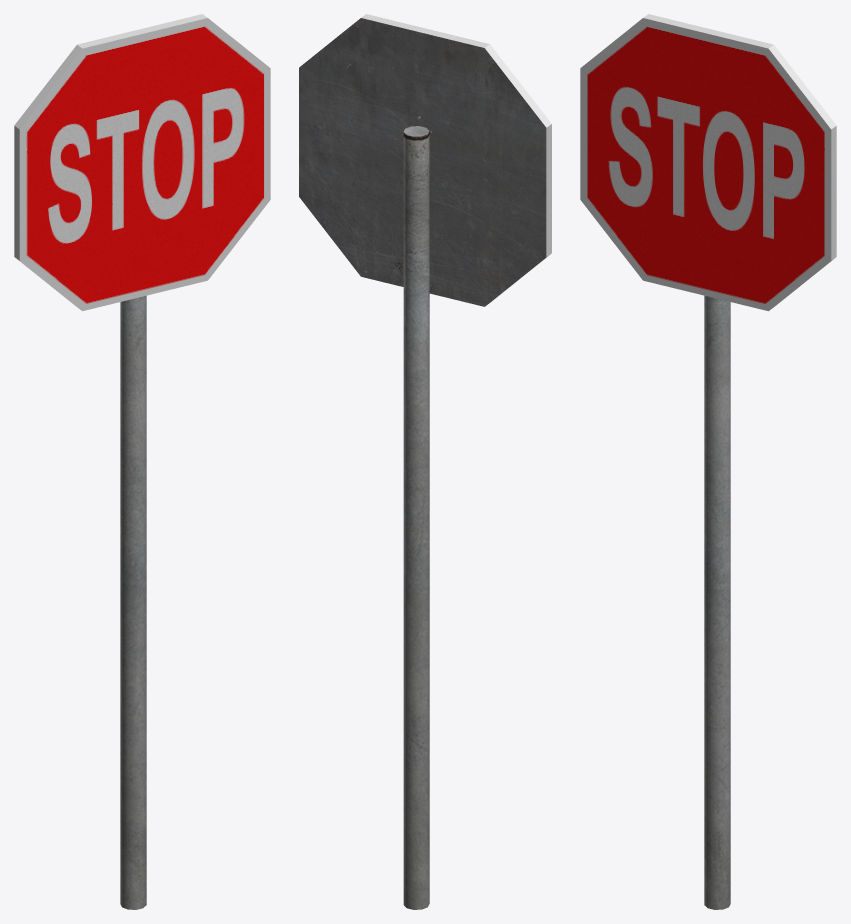
File: StopSign2.FBX
3 views of the same model, side by side, from view 1: azimuth 30°, elevation 25°; view 2: azimuth 150°, elevation 25°; view 3: azimuth 330°, elevation 25° (orthographic).
Visible parts, largest first — view 1: Line01; view 2: Line01; view 3: Line01.
Part boxes in pixels (bbox=[...]): Line01: bbox=[14, 14, 270, 909]; Line01: bbox=[299, 14, 551, 909]; Line01: bbox=[580, 14, 836, 909].
Size of the model in its own units: 0.8525 by 2.86 by 0.1065.
Materials: 1 (1 with a texture image).
